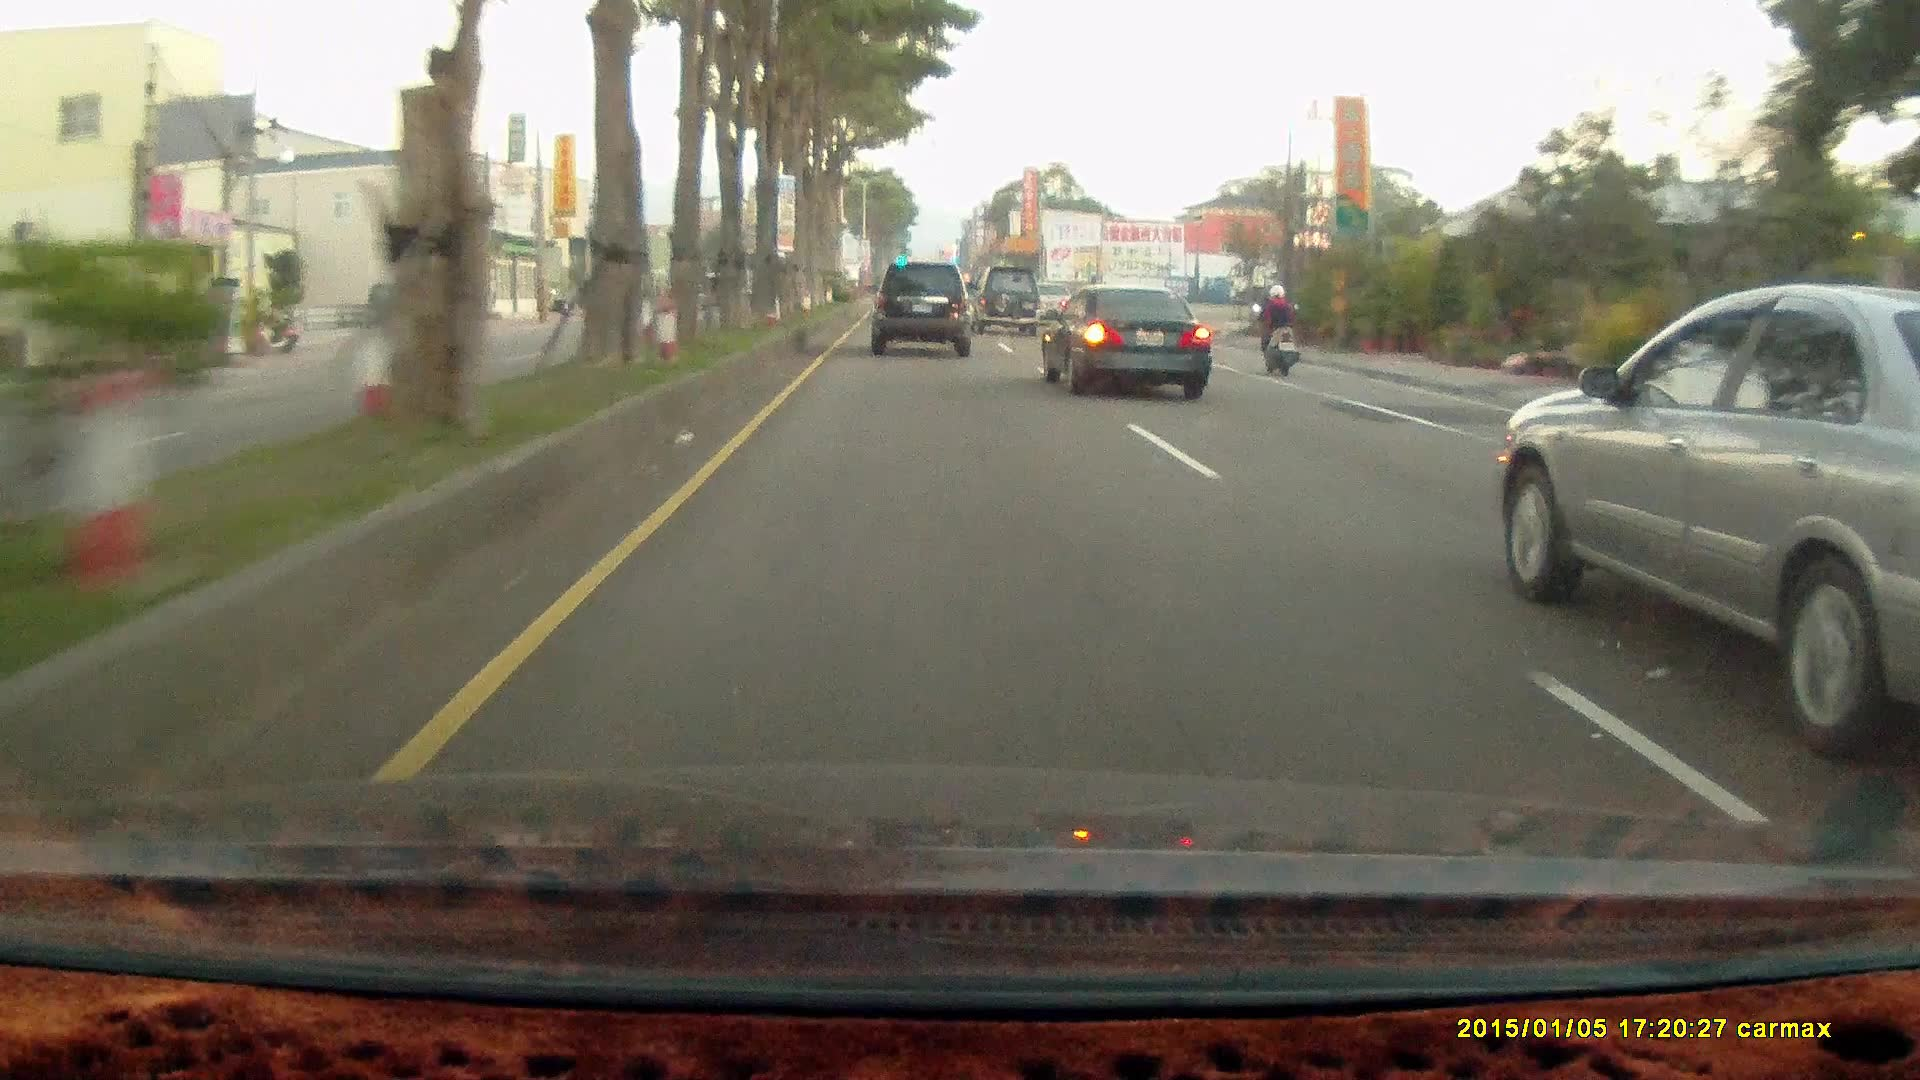rider: (1244, 273, 1312, 389), (1246, 281, 1300, 376)
vehicle: (1483, 291, 1919, 772), (1037, 290, 1214, 406), (1039, 284, 1210, 402), (867, 261, 971, 358), (869, 262, 973, 358), (967, 271, 1041, 344), (968, 262, 1041, 333)
